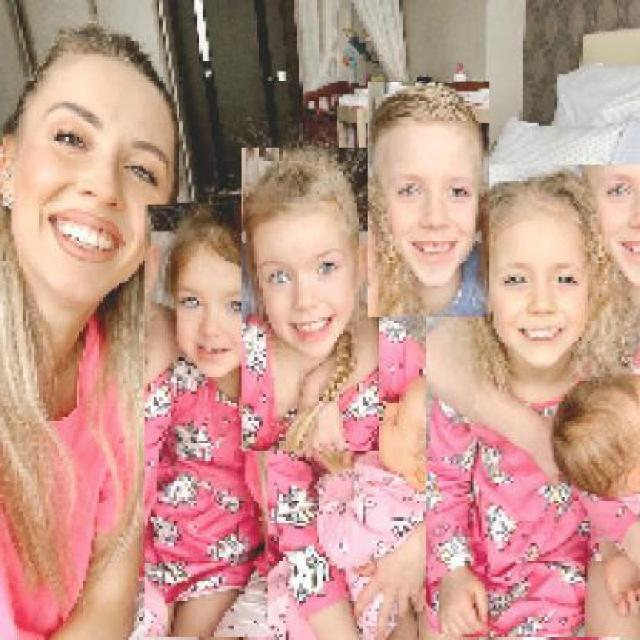child: (425, 164, 640, 638), (237, 374, 517, 637), (143, 204, 268, 638), (240, 148, 380, 452), (366, 82, 488, 318)
